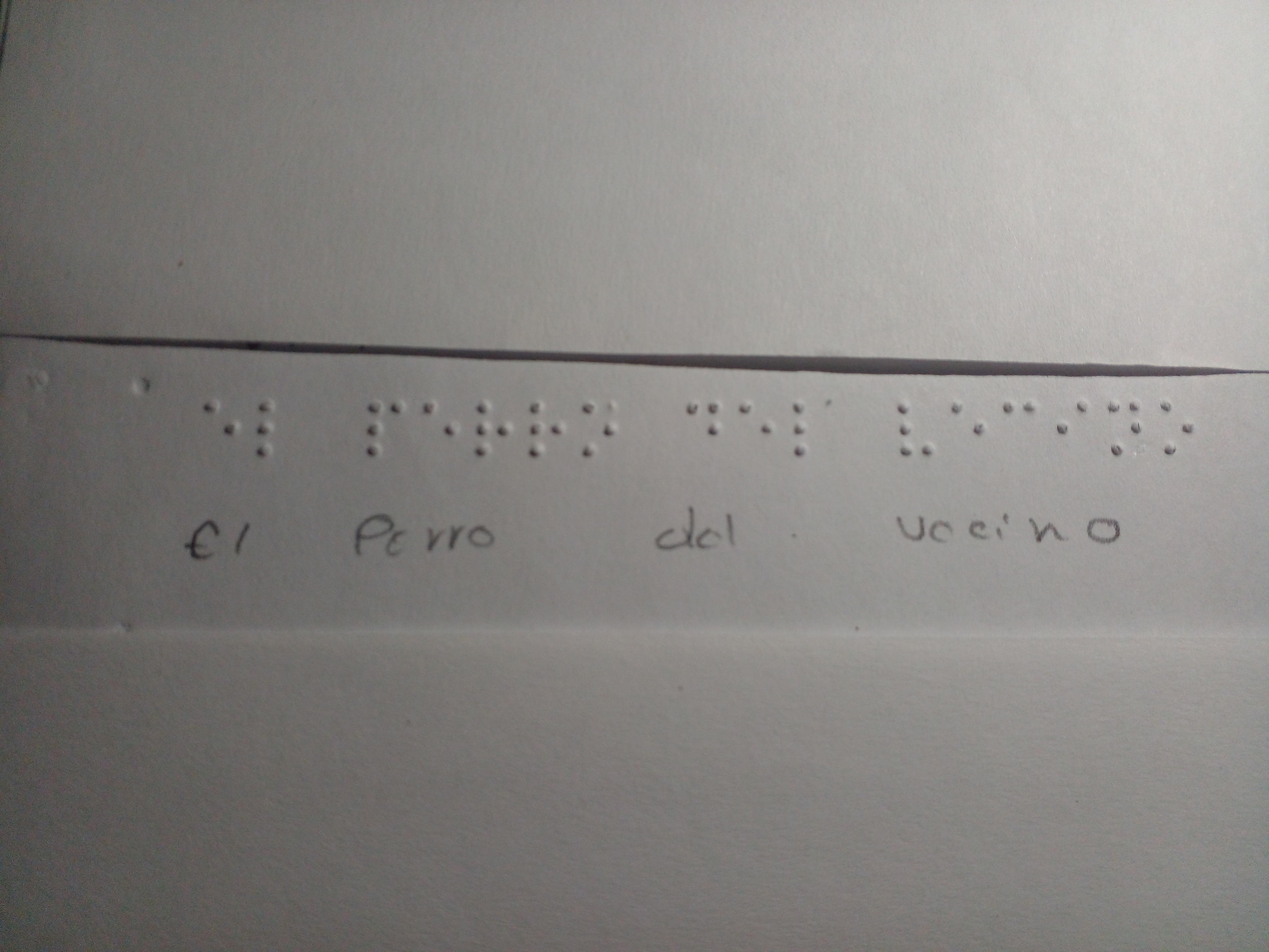c: (995, 392, 1039, 431)
d: (675, 397, 723, 442)
e: (407, 386, 463, 452), (195, 378, 243, 446), (728, 394, 779, 448), (942, 395, 991, 442)
i: (1050, 390, 1092, 442)
l: (782, 394, 821, 466), (254, 387, 291, 462)
n: (1097, 398, 1149, 460)
o: (1159, 394, 1205, 462), (575, 401, 624, 462)
p: (356, 389, 406, 462)
r: (462, 389, 517, 468), (516, 397, 575, 459)
v: (886, 397, 945, 469)
